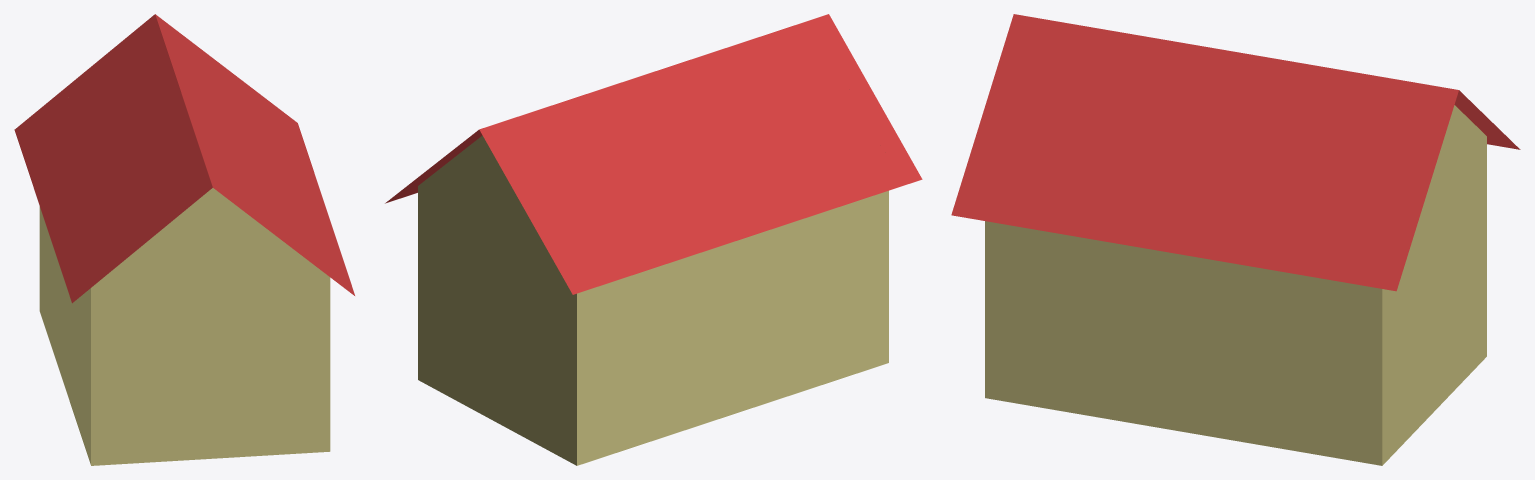
The picture shows the model from 3 angles, left to right: view 1: azimuth 30°, elevation 25°; view 2: azimuth 150°, elevation 25°; view 3: azimuth 270°, elevation 25°; orthographic projection. The views are drawn at different scales.
Bounding box in the file's own units: 18.85 × 22.03 × 13.87.
